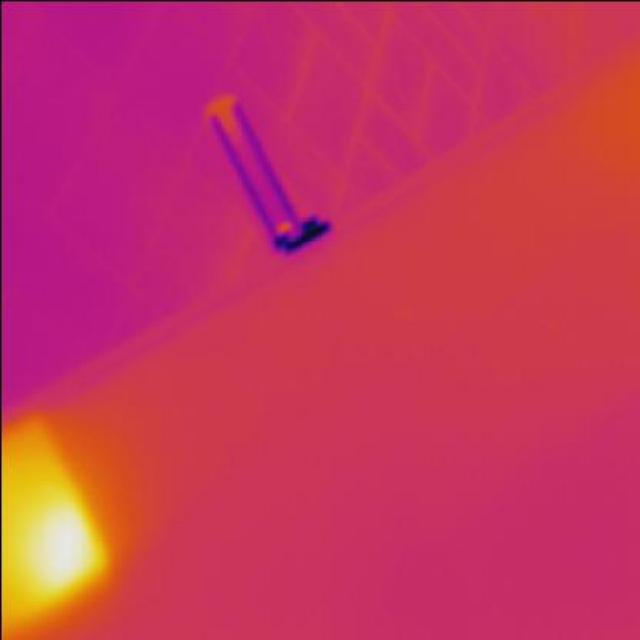hotspot: (2, 400, 120, 637)
